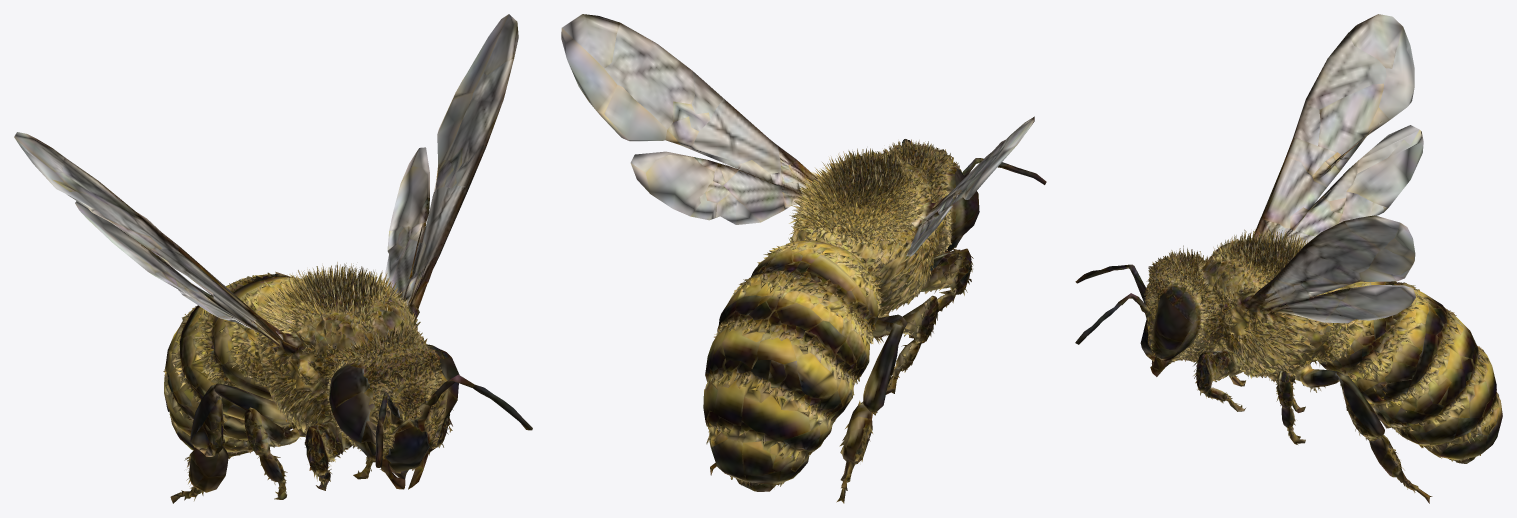
Rendered from bee.glb.
The picture shows the model from 3 angles, left to right: view 1: azimuth 30°, elevation 25°; view 2: azimuth 150°, elevation 25°; view 3: azimuth 270°, elevation 25°; orthographic projection. The views are drawn at different scales.
Bounding box in the file's own units: 1.9 × 1.6 × 1.71.
Materials: 1 (1 with a texture image).
